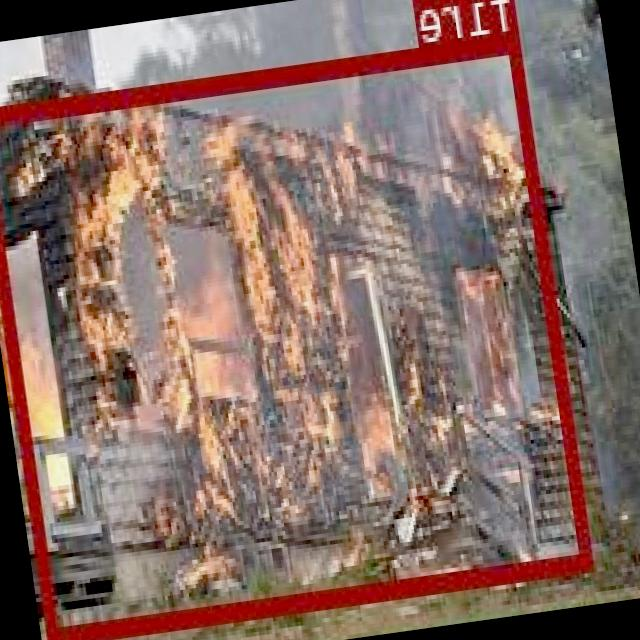fire: (0, 31, 595, 640)
